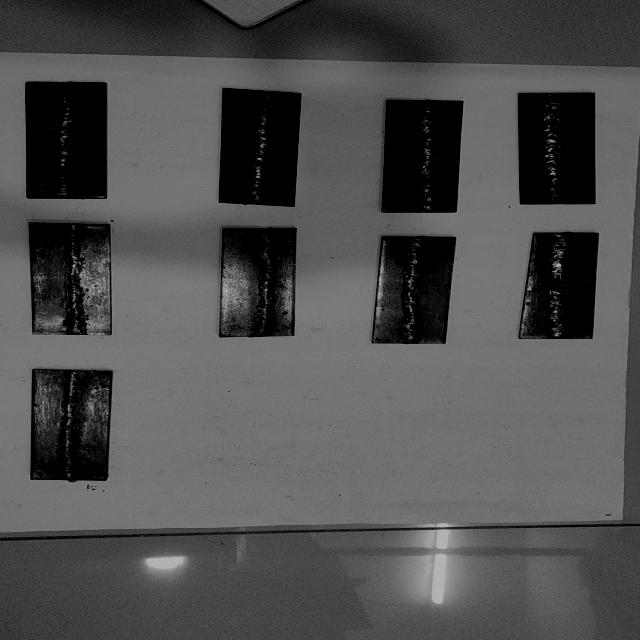Bad Weld: (249, 92, 272, 204), (548, 235, 569, 338)
Defect: (247, 92, 280, 121), (542, 276, 573, 294)
Good Weld: (541, 95, 565, 202), (58, 372, 81, 478), (64, 224, 85, 334), (253, 230, 274, 334), (420, 101, 438, 211), (402, 238, 420, 344), (57, 84, 73, 198)
